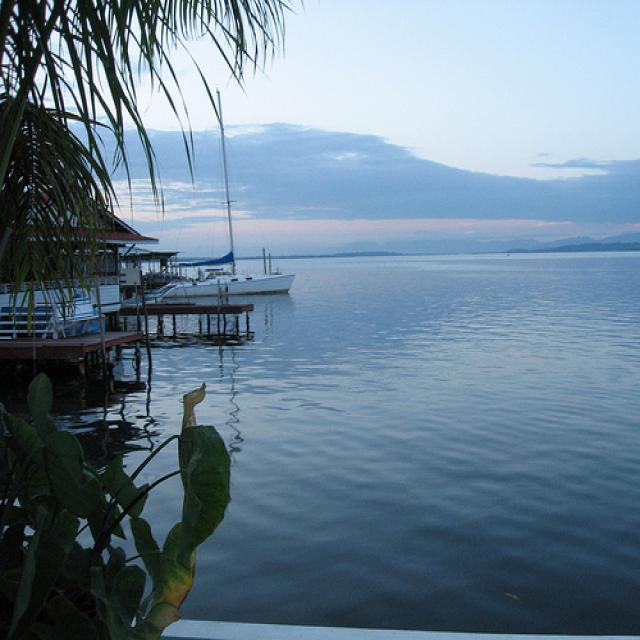boat: (159, 86, 297, 300)
